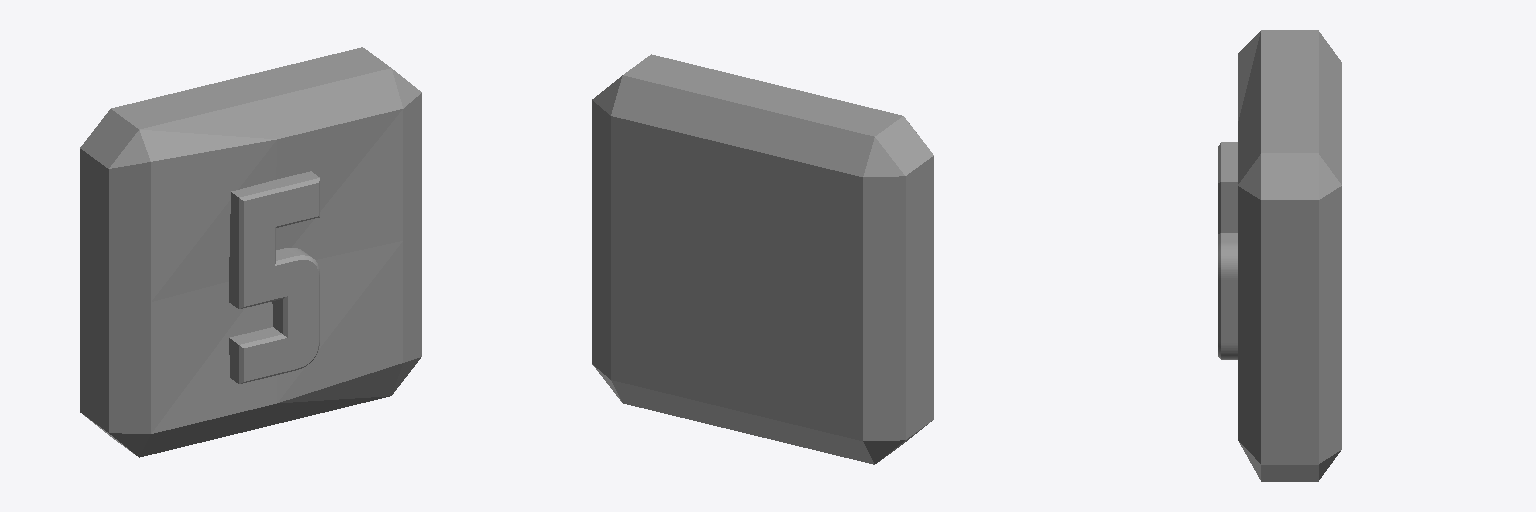
The model's file is Lvl-5.obj.
3 renders of one model, left to right at view 1: azimuth 30°, elevation 25°; view 2: azimuth 150°, elevation 25°; view 3: azimuth 270°, elevation 25°, orthographic.
Visible parts, largest first — view 1: lvl-5_Cube.003; view 2: lvl-5_Cube.003; view 3: lvl-5_Cube.003.
Part boxes in pixels (bbox=[...]): lvl-5_Cube.003: bbox=[80, 47, 421, 457]; lvl-5_Cube.003: bbox=[592, 54, 933, 464]; lvl-5_Cube.003: bbox=[1218, 30, 1341, 481].
Size of the model in its own units: 1.28 by 1.28 by 0.4393.